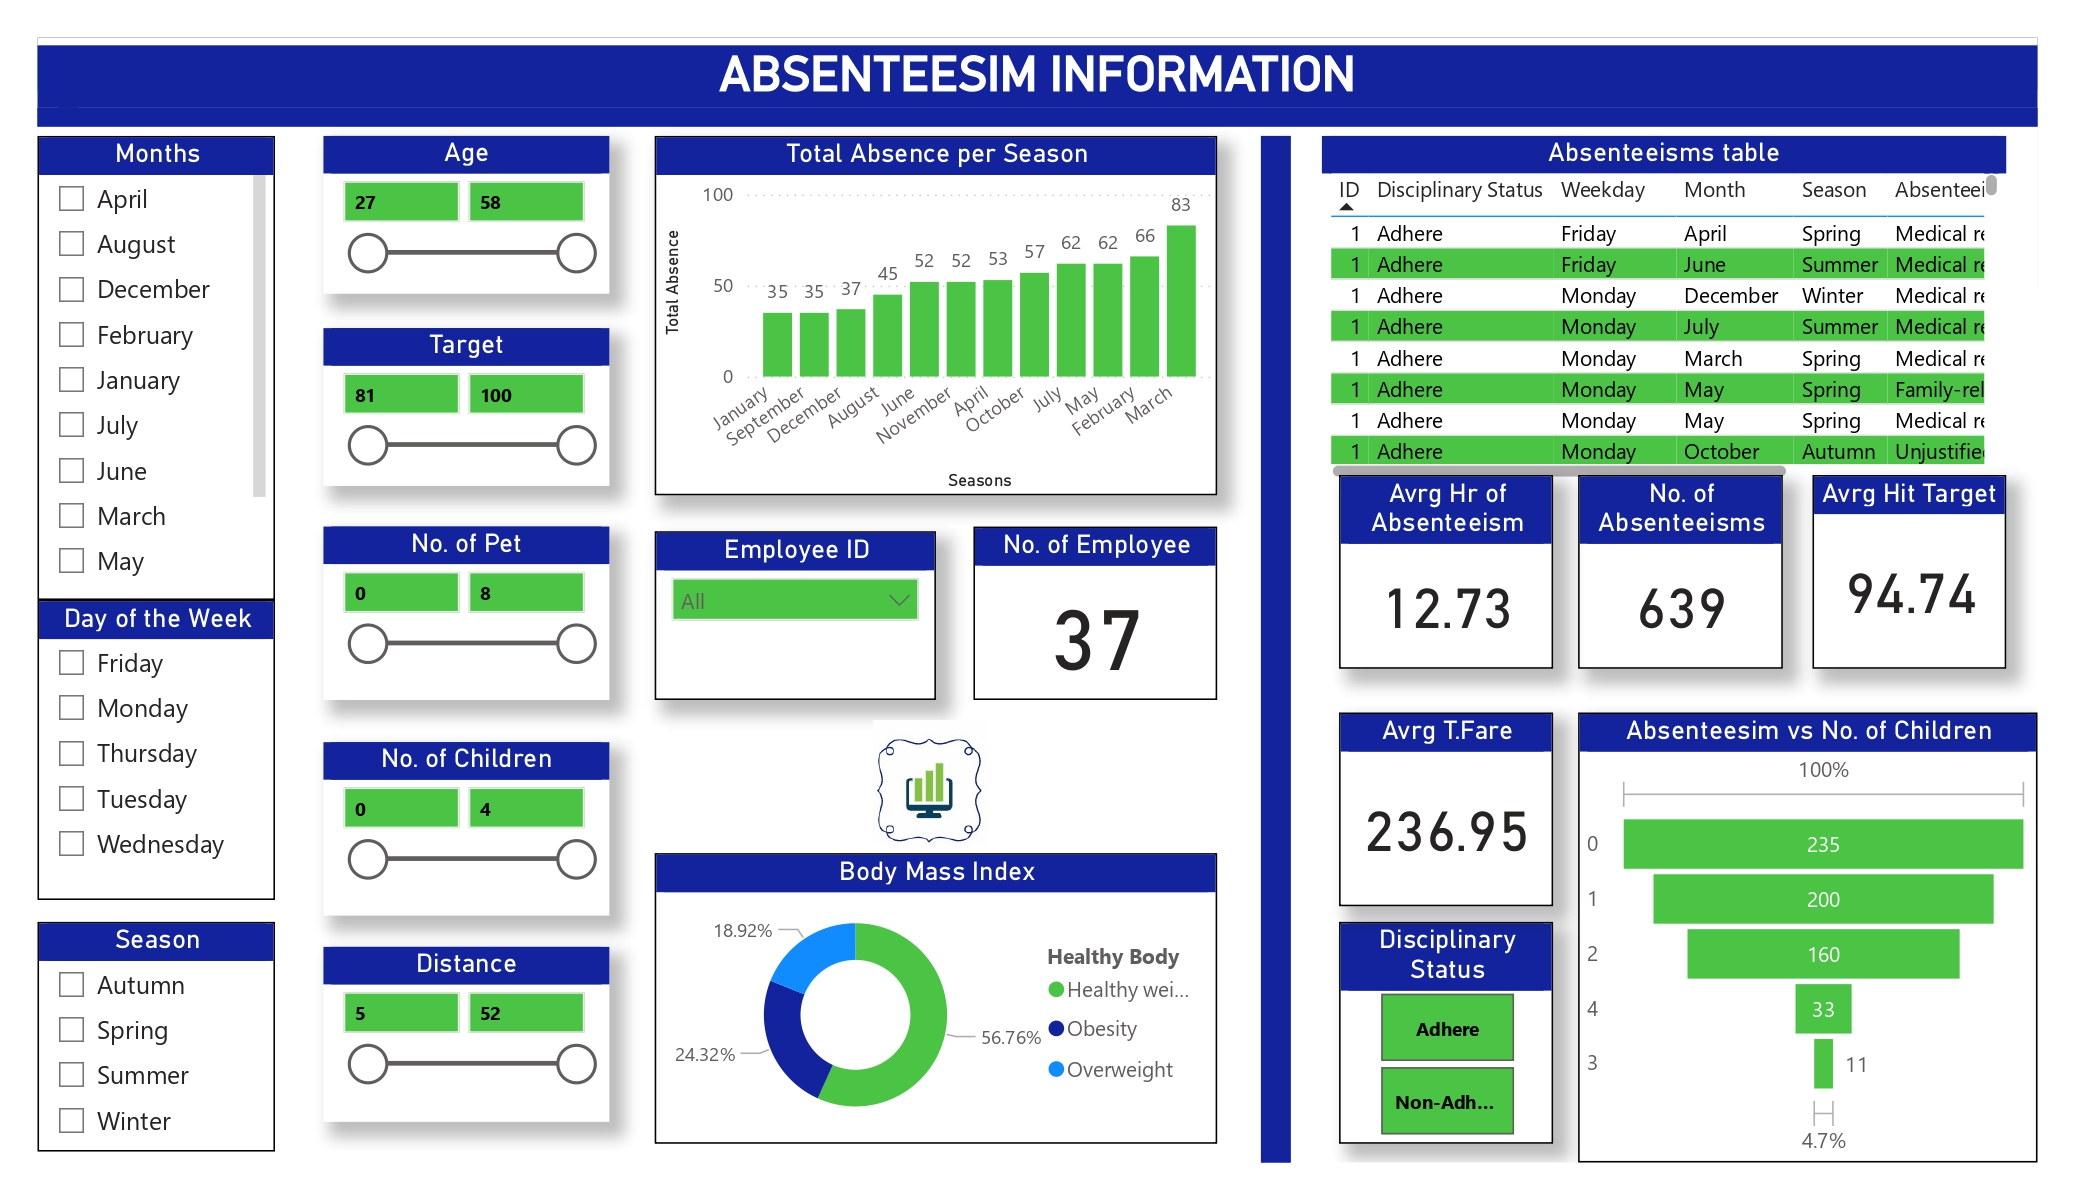

What the dashboard file says about the page in this screenshot:
{"tool":"powerbi","page":{"name":"Absenteesim","canvas":[1280,720],"ordinal":1},"visuals":[{"type":"tableEx","title":"Absenteeisms table","fields":{"Values":["Absenteeisms.ID","Absenteeisms.Disciplinary Status","Absenteeisms.Weekday","Absenteeisms.Month","Absenteeisms.Season","Absenteeisms.Absenteeism Reason","Employee_info.Smoker_Status"]},"box":[822.4,62.9,437.6,223.9],"z":0},{"type":"actionButton","box":[0,11.7,99.5,39.5],"z":1000},{"type":"slicer","title":"Months","fields":{"Values":["Absenteeisms.Month"]},"box":[0,62.9,152.2,297.1],"z":2000},{"type":"card","title":"No. of Absenteeisms","fields":{"Values":["CountNonNull(Absenteeisms.ID)"]},"box":[986.3,279.5,130.2,124.4],"z":3000},{"type":"slicer","title":"Season","fields":{"Values":["Absenteeisms.Season"]},"box":[0,566.3,152.2,146.3],"z":4000},{"type":"clusteredColumnChart","title":"Total Absence per Season","fields":{"Y":["CountNonNull(Absenteeisms.Season)"],"Category":["Absenteeisms.Season","Absenteeisms.Weekday","Absenteeisms.Month"]},"box":[395.1,62.9,360,229.8],"z":5000},{"type":"slicer","title":"Age","fields":{"Values":["Employee_info.Age"]},"box":[182.9,62.9,182.9,101],"z":6000},{"type":"card","title":"Avrg Hr of  Absenteeism","fields":{"Values":["Avg(Absenteeisms.Service time)"]},"box":[832.7,279.5,137.6,124.4],"z":7000},{"type":"slicer","title":"Day of the Week","fields":{"Values":["Absenteeisms.Weekday"]},"box":[0,360,152.2,191.7],"z":8000},{"type":"slicer","title":"Disciplinary Status","fields":{"Values":["Absenteeisms.Disciplinary Status"]},"box":[832.7,566.3,137.6,142],"z":9000},{"type":"slicer","title":"No. of Children","fields":{"Values":["Employee_info.Children"]},"box":[182.9,450.7,182.9,111.2],"z":10000},{"type":"slicer","title":"No. of Pet","fields":{"Values":["Employee_info.Pet"]},"box":[182.9,313.2,182.9,111.2],"z":11000},{"type":"shape","title":"ABSENTEESIM INFORMATION","box":[0,5,1280,51.7],"z":12000},{"type":"slicer","title":"Distance","fields":{"Values":["Employee_info.Distance from home to work"]},"box":[182.9,582.4,182.9,111.2],"z":13000},{"type":"donutChart","title":"Body Mass Index","fields":{"Category":["Employee_info.Healthy Body"],"Y":["CountNonNull(Employee_info.Healthy Body)"]},"box":[395.1,522.4,360,185.9],"z":14000},{"type":"slicer","title":"Target","fields":{"Values":["Absenteeisms.Hit target"]},"box":[182.9,185.9,182.9,101],"z":15000},{"type":"card","title":"Avrg Hit Target","fields":{"Values":["Avg(Absenteeisms.Hit target)"]},"box":[1135.6,279.5,124.4,124.4],"z":16000},{"type":"card","title":"Avrg T.Fare","fields":{"Values":["Avg(Employee_info.Transportation expense)"]},"box":[832.7,431.7,137.6,124.4],"z":17000},{"type":"shape","box":[782.9,62.9,19,657.1],"z":18000},{"type":"slicer","title":"Employee ID","fields":{"Values":["Absenteeisms.ID"]},"box":[395.1,316.1,180,108.3],"z":19000},{"type":"card","title":"No. of Employee","fields":{"Values":["CountNonNull(Employee_info.ID)"]},"box":[598.5,313.2,156.6,111.2],"z":20000},{"type":"image","box":[515.1,431.7,112.7,90.7],"z":21000},{"type":"funnel","title":"Absenteesim vs No. of Children","fields":{"Category":["Employee_info.Children"],"Y":["CountNonNull(Absenteeisms.ID)"]},"box":[986.3,431.7,294.1,288.3],"z":22000}]}

Visuals, with their boxes in screenshot pixels (x1, y1, x2, y2):
"Absenteeisms table" tableEx: locate(1322, 136, 2006, 486)
actionButton: locate(38, 56, 193, 118)
"Months" slicer: locate(38, 136, 275, 600)
"No. of Absenteeisms" card: locate(1579, 474, 1782, 669)
"Season" slicer: locate(38, 922, 275, 1151)
"Total Absence per Season" clusteredColumnChart: locate(655, 136, 1217, 495)
"Age" slicer: locate(323, 136, 609, 294)
"Avrg Hr of  Absenteeism" card: locate(1339, 474, 1554, 669)
"Day of the Week" slicer: locate(38, 600, 275, 900)
"Disciplinary Status" slicer: locate(1339, 922, 1554, 1144)
"No. of Children" slicer: locate(323, 742, 609, 915)
"No. of Pet" slicer: locate(323, 527, 609, 701)
"ABSENTEESIM INFORMATION" shape: locate(38, 45, 2038, 126)
"Distance" slicer: locate(323, 948, 609, 1121)
"Body Mass Index" donutChart: locate(655, 854, 1217, 1144)
"Target" slicer: locate(323, 328, 609, 486)
"Avrg Hit Target" card: locate(1812, 474, 2006, 669)
"Avrg T.Fare" card: locate(1339, 712, 1554, 906)
shape: locate(1261, 136, 1290, 1162)
"Employee ID" slicer: locate(655, 531, 936, 701)
"No. of Employee" card: locate(973, 527, 1217, 701)
image: locate(842, 712, 1018, 854)
"Absenteesim vs No. of Children" funnel: locate(1579, 712, 2038, 1162)
